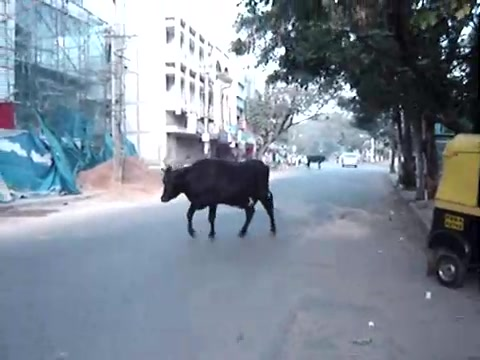cow: (161, 160, 278, 239)
